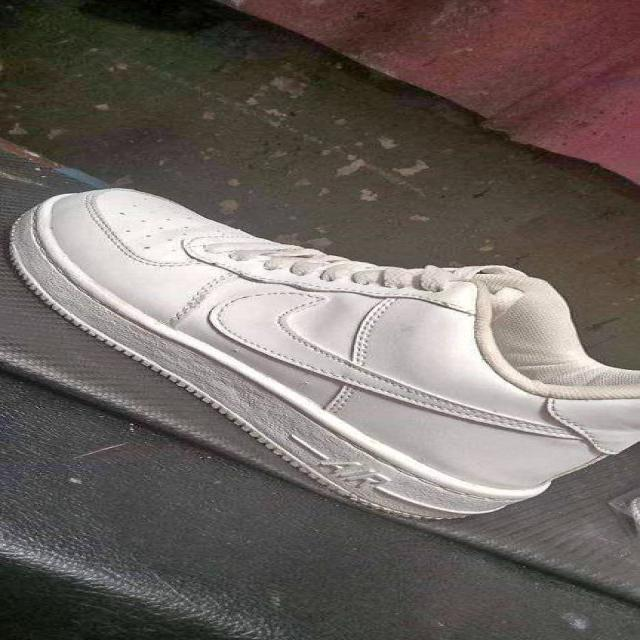nike fake air force: (7, 186, 637, 546)
